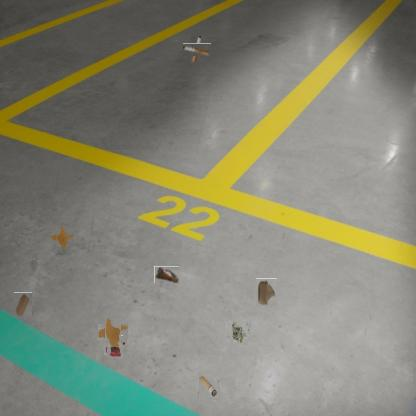dirty: (255, 278, 277, 307), (226, 321, 249, 343), (197, 375, 219, 397), (14, 292, 32, 317), (154, 266, 179, 283), (187, 40, 208, 60), (106, 337, 125, 357)
liquid: (102, 321, 124, 344), (54, 227, 71, 245)
